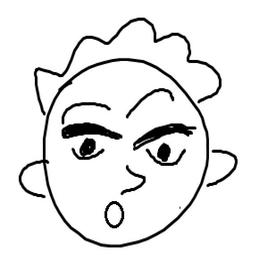ear: (203, 143, 244, 190), (14, 155, 52, 203)
eye: (130, 123, 197, 167), (60, 121, 122, 162)
eyebrow: (61, 99, 112, 120)
frowning_eyebrow: (123, 86, 176, 118)
open_mouth: (101, 198, 126, 232)
pointy_nose: (117, 162, 148, 196)
